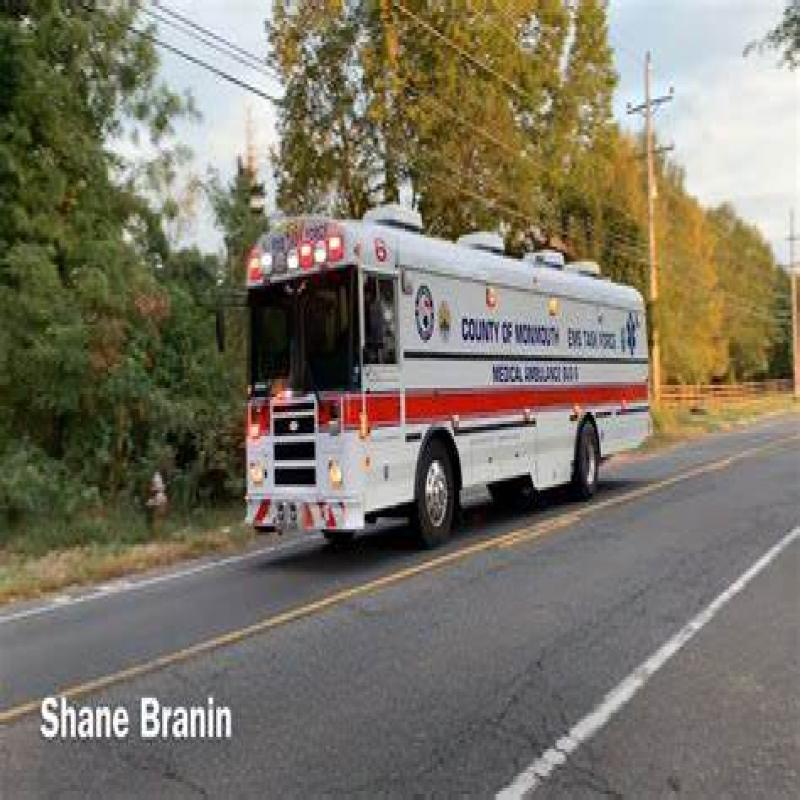AmbulanceSiren: (249, 228, 350, 278)
